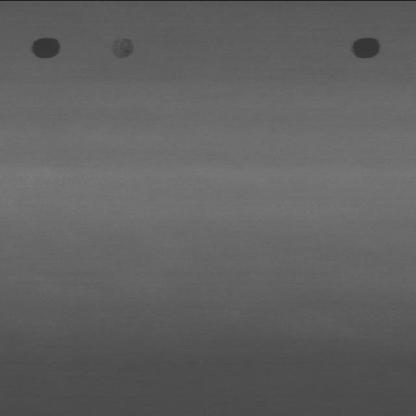oil_spot: (348, 35, 386, 59), (29, 34, 65, 58), (110, 37, 138, 58)
